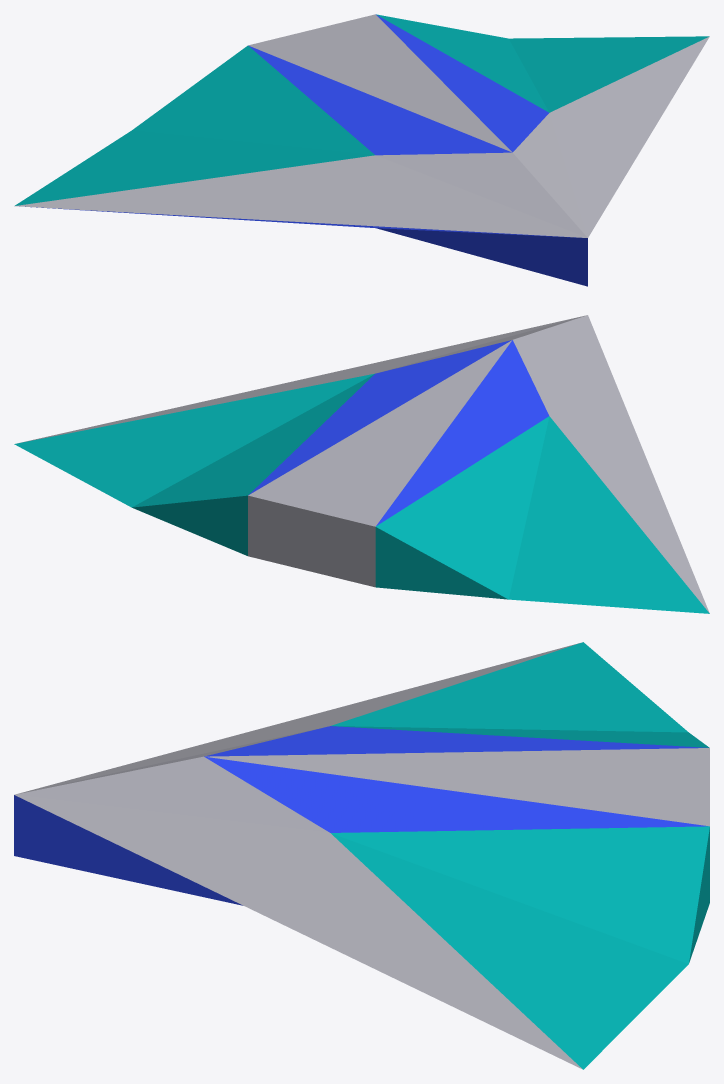
The model's file is dogfighter.obj.
3 views of the same model, one above another, from view 1: azimuth 30°, elevation 25°; view 2: azimuth 150°, elevation 25°; view 3: azimuth 270°, elevation 25° (orthographic). The views are drawn at different scales.
Bounding box in the file's own units: 240 × 30 × 165.
